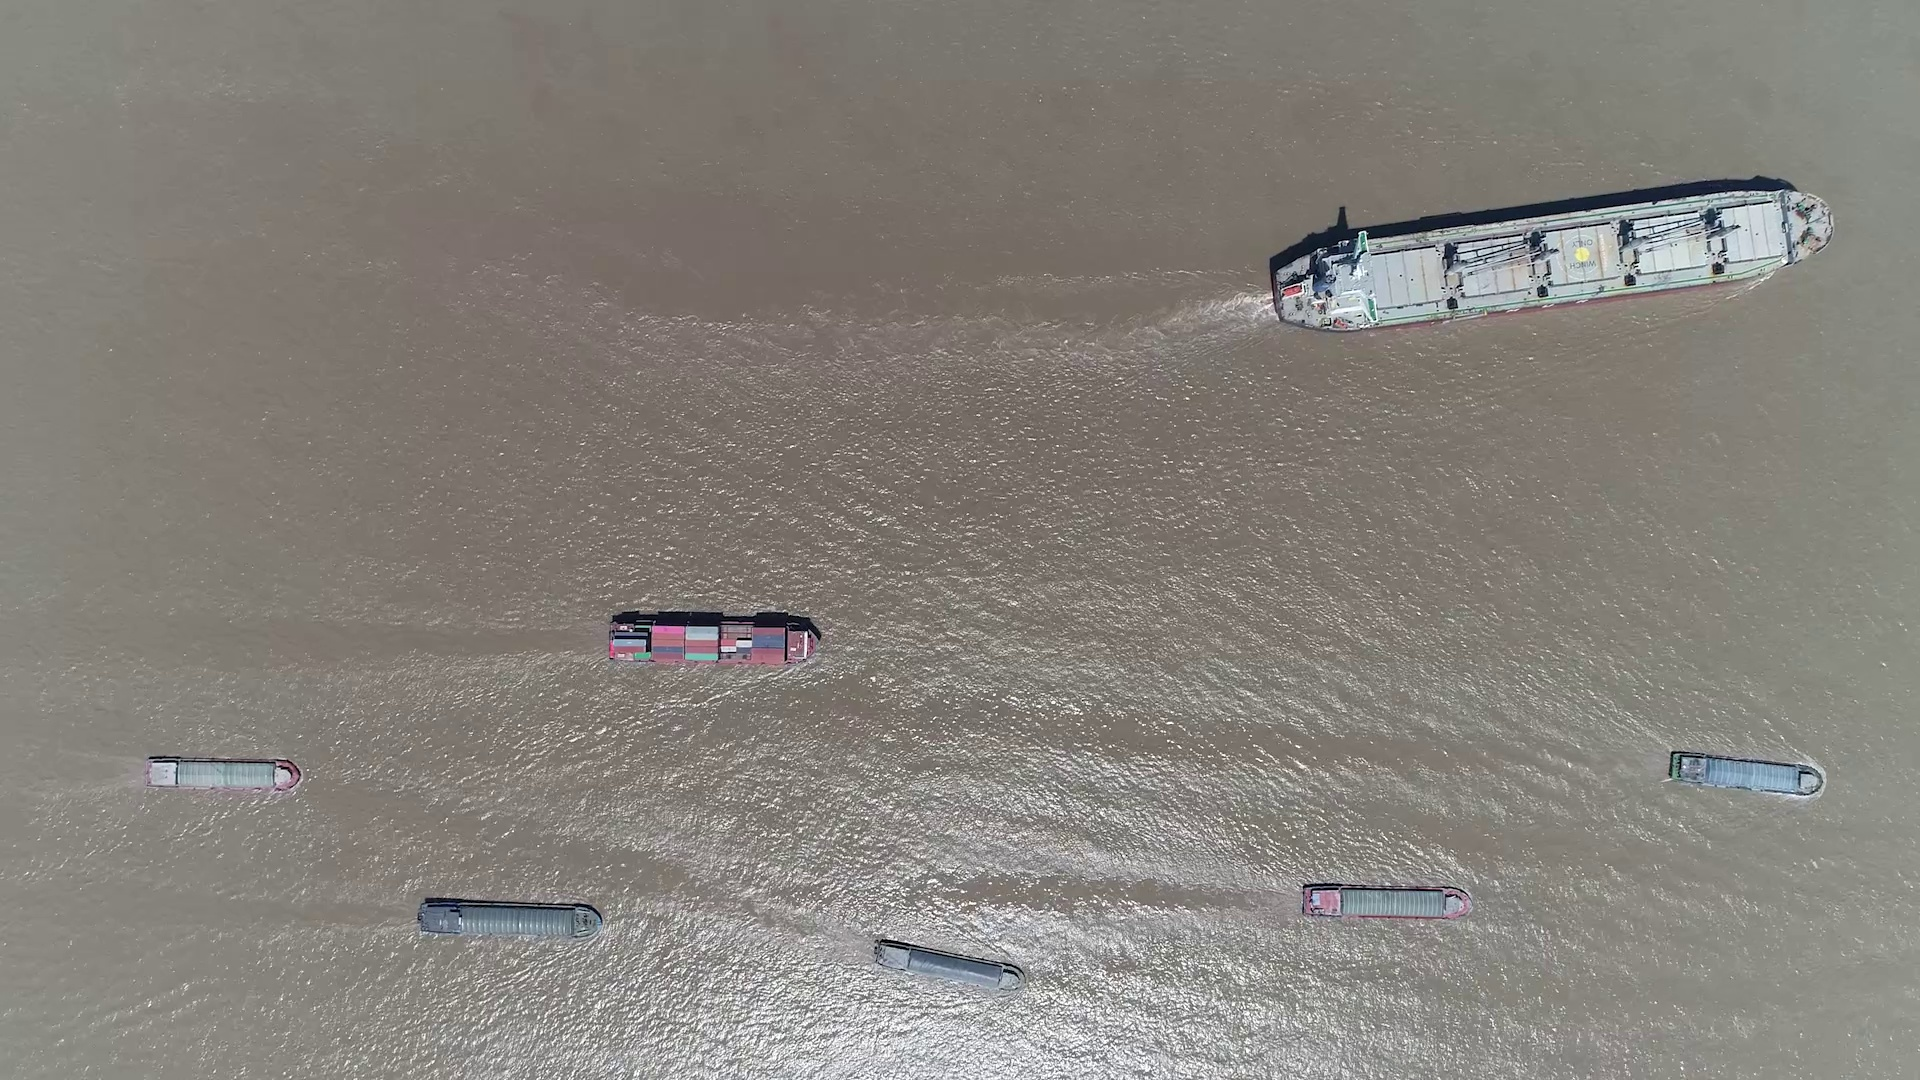ship: (1262, 187, 1833, 332), (607, 615, 820, 665), (874, 940, 1021, 990), (418, 899, 601, 939), (1668, 752, 1824, 796), (1300, 882, 1472, 920), (144, 756, 302, 793)
